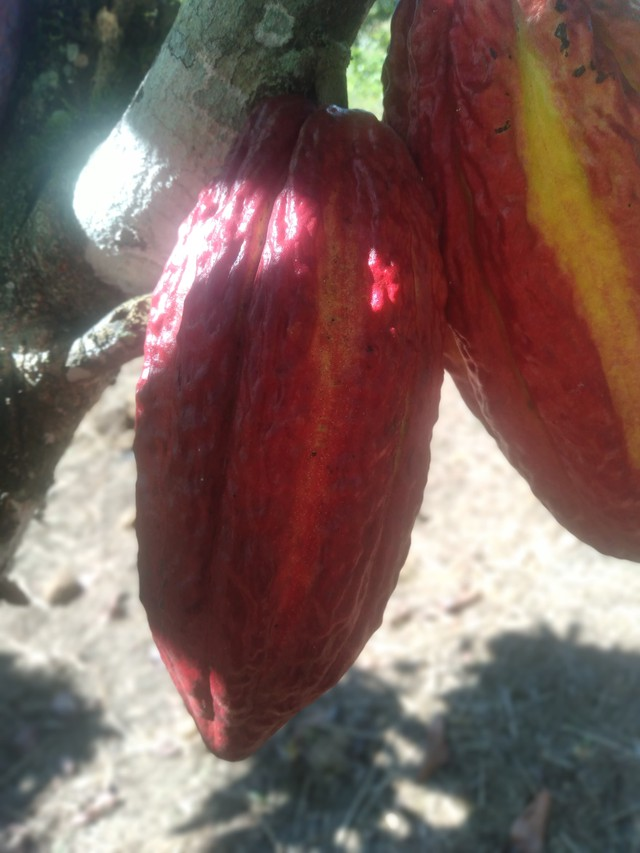Health: (110, 81, 465, 767)
